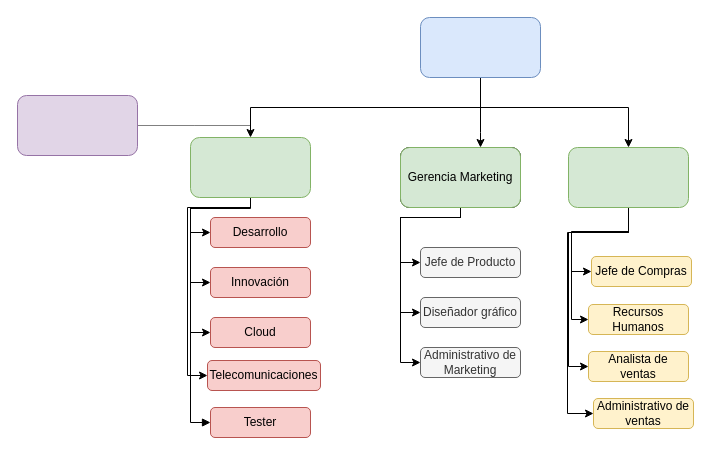
The diagram is 711 pixels wide and 455 high, and some of its shapes have lost their labels. Here are the shapes that lost their labels. From the top down, the centre of each, then its label:
the point at 480,47: Gerencia General
the point at 77,125: Empresa de soporte
the point at 250,167: Gerencia de Tecnología
the point at 628,177: Gerencia Administrativa
